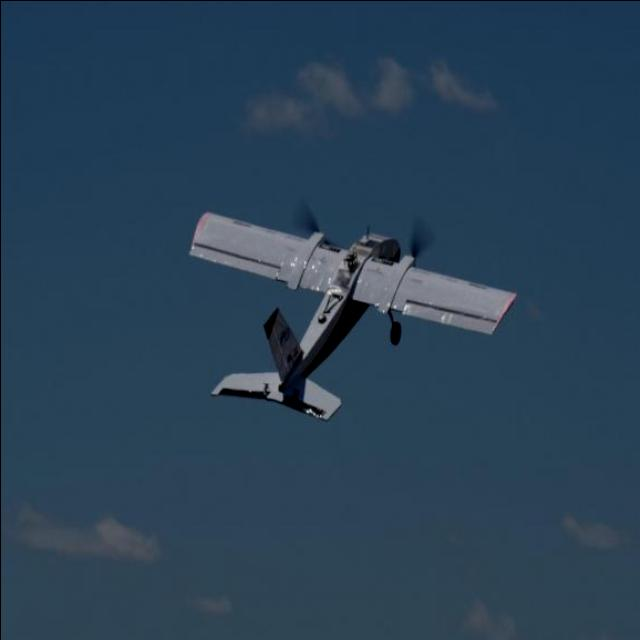plane: (186, 202, 516, 420)
